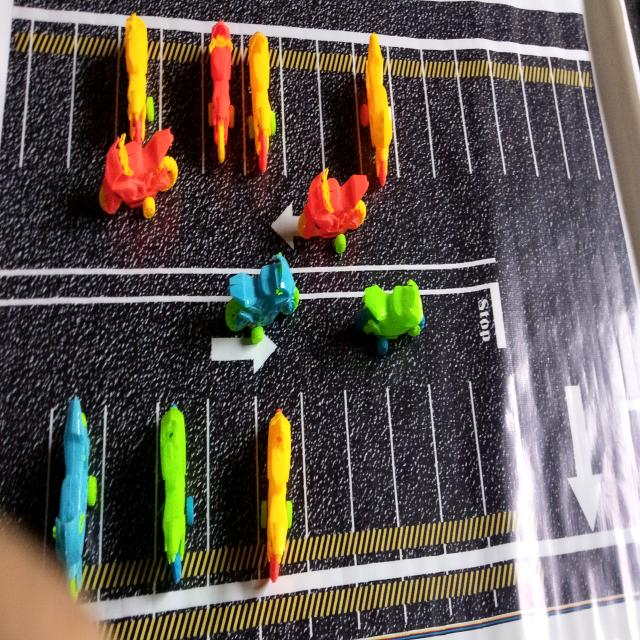bikes: (99, 129, 178, 219), (226, 253, 299, 344), (297, 169, 369, 254), (355, 280, 424, 355)
occupied: (46, 396, 106, 589), (256, 390, 309, 582), (155, 399, 210, 584), (115, 13, 167, 145), (357, 33, 399, 186), (240, 32, 282, 175), (208, 18, 246, 174)
others: (0, 517, 106, 640)
slots: (103, 402, 156, 564), (385, 383, 441, 524), (209, 394, 257, 548), (430, 379, 483, 518), (346, 388, 397, 529), (471, 370, 519, 513), (20, 53, 73, 179), (0, 403, 48, 537), (303, 391, 347, 534), (323, 71, 370, 184), (71, 54, 117, 167), (460, 77, 504, 179), (283, 68, 321, 181), (525, 82, 569, 178), (427, 78, 470, 176), (163, 61, 201, 165), (393, 77, 431, 177), (557, 85, 597, 177), (494, 78, 532, 174)
